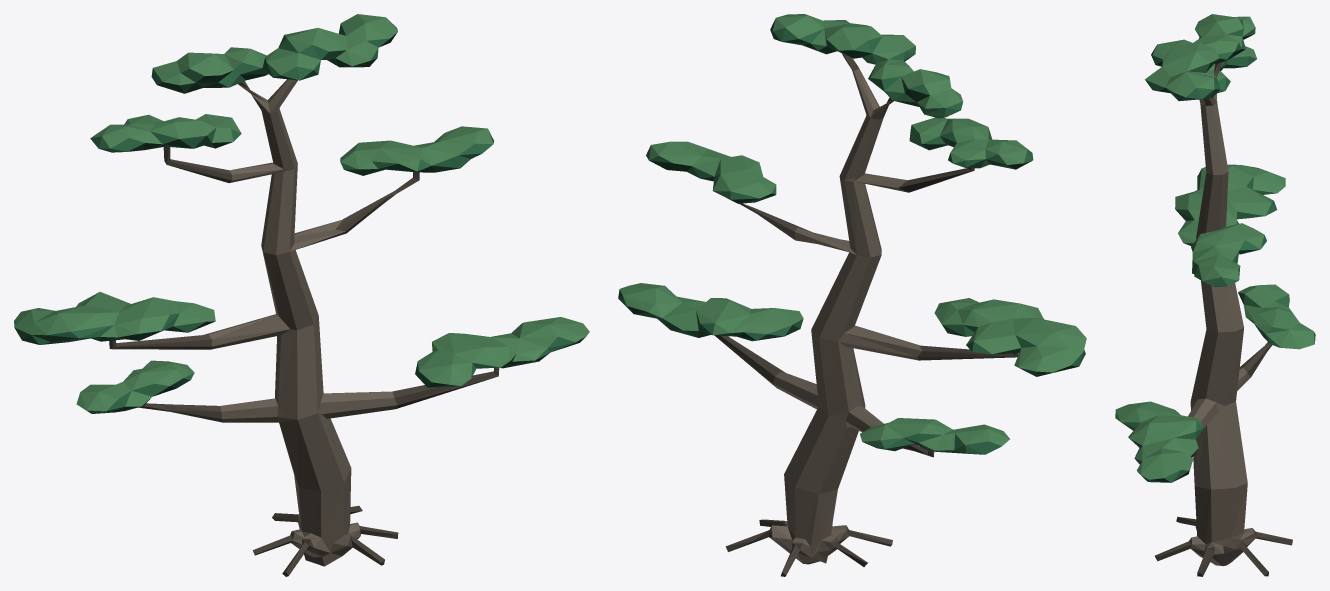
File: ancient-pine-3020-lod2.glb
3 renders of one model, left to right at view 1: azimuth 30°, elevation 25°; view 2: azimuth 150°, elevation 25°; view 3: azimuth 270°, elevation 25°, orthographic. The views are drawn at different scales.
Visible parts, largest first — view 1: n12.006, n8.006, n9.006, n11.006, n10.006; view 2: n12.006, n8.006, n11.006, n9.006, n10.006; view 3: n12.006, n8.006, n11.006, n9.006, n10.006.
Part boxes in pixels (x1,y1,x2,y2): n12.006: (14, 14, 589, 411); n8.006: (204, 79, 397, 566); n9.006: (109, 81, 499, 576); n11.006: (14, 24, 575, 411); n10.006: (32, 32, 586, 413); n12.006: (619, 14, 1086, 450); n8.006: (769, 68, 921, 564); n11.006: (618, 19, 1085, 454); n9.006: (714, 53, 1018, 576); n10.006: (620, 30, 1078, 454); n12.006: (1115, 14, 1314, 479); n8.006: (1188, 64, 1256, 565); n11.006: (1121, 18, 1315, 482); n9.006: (1155, 62, 1292, 576); n10.006: (1121, 30, 1294, 482).
Size of the model in its own units: 5.39 by 5.43 by 1.96.
